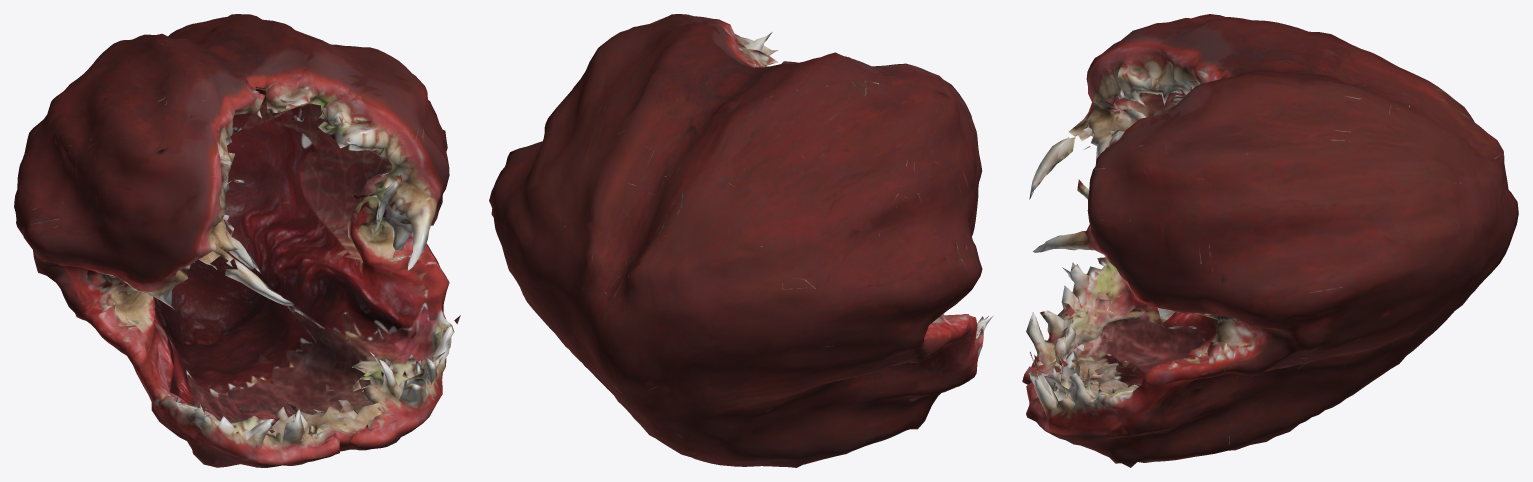
The model's file is Meshy_AI_lango_2_0506190022_texture.fbx.
The picture shows the model from 3 angles, left to right: view 1: azimuth 30°, elevation 25°; view 2: azimuth 150°, elevation 25°; view 3: azimuth 270°, elevation 25°; orthographic projection. The views are drawn at different scales.
Visible parts, largest first — view 1: Mesh1; view 2: Mesh1; view 3: Mesh1.
Part boxes in pixels (x1=…): Mesh1: x1=14, y1=14, x2=460, y2=467; Mesh1: x1=489, y1=14, x2=993, y2=467; Mesh1: x1=1022, y1=14, x2=1518, y2=467.
Bounding box in the file's own units: 199 × 169 × 197.
Materials: 1 (1 with a texture image).
